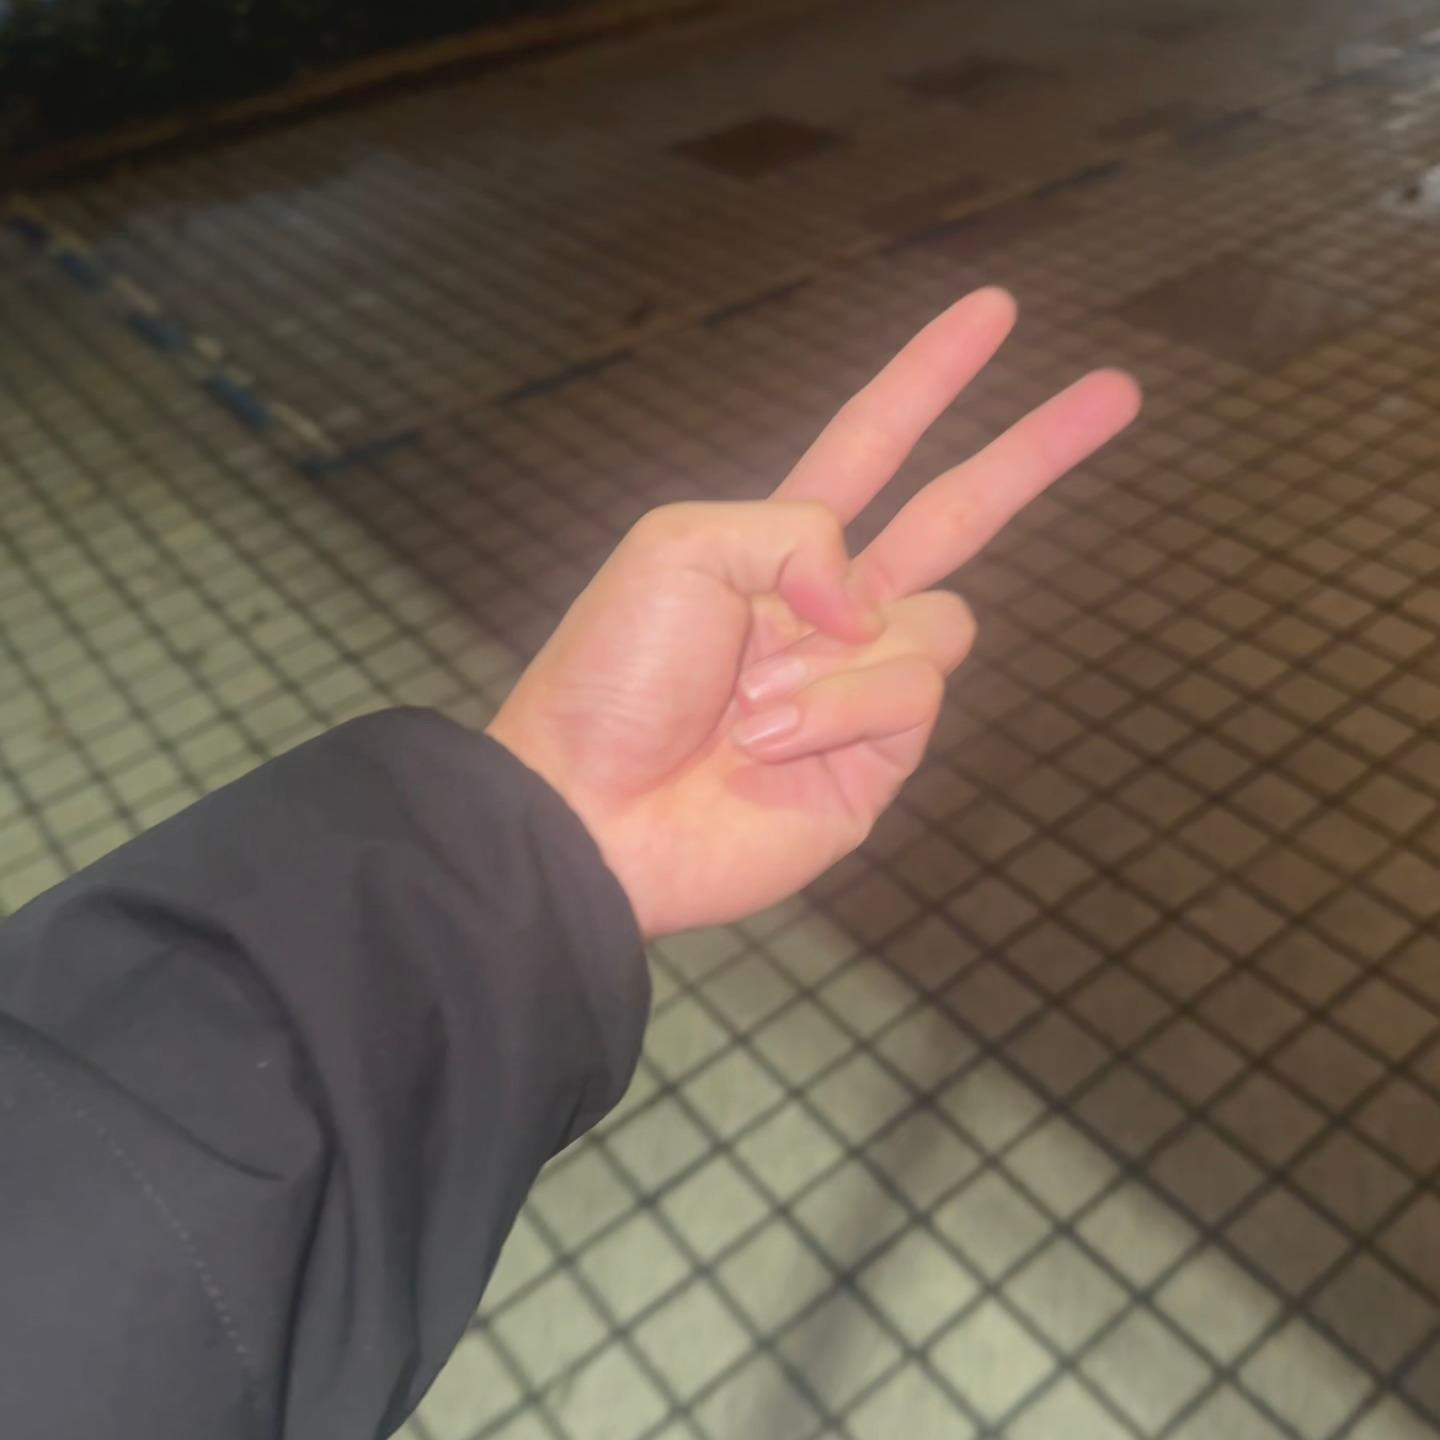without_gloves: (505, 136, 1286, 965)
